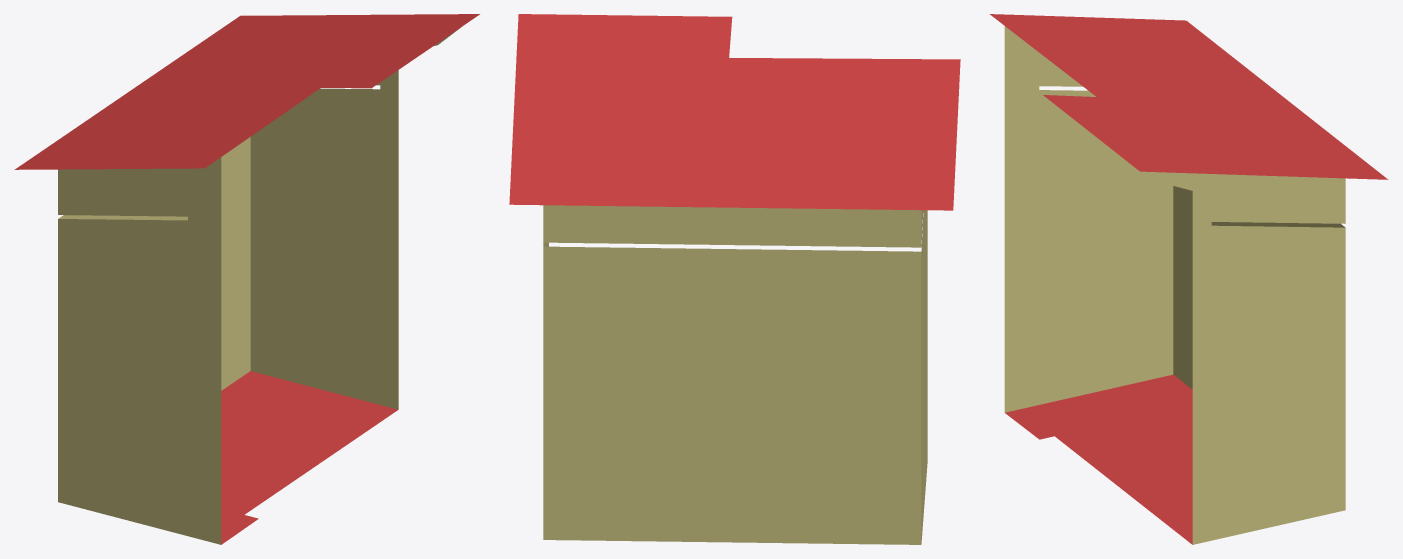
The picture shows the model from 3 angles, left to right: view 1: azimuth 30°, elevation 25°; view 2: azimuth 150°, elevation 25°; view 3: azimuth 270°, elevation 25°; orthographic projection. The views are drawn at different scales.
Bounding box in the file's own units: 12.08 × 9.45 × 10.46.
